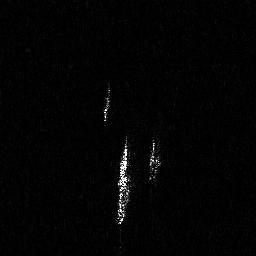ship: (113, 133, 136, 227), (146, 132, 162, 186), (101, 79, 112, 131)
